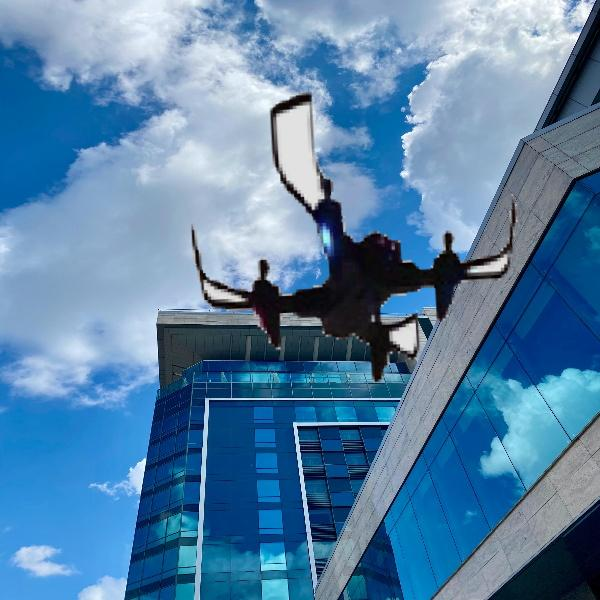drone: (192, 63, 531, 402)
